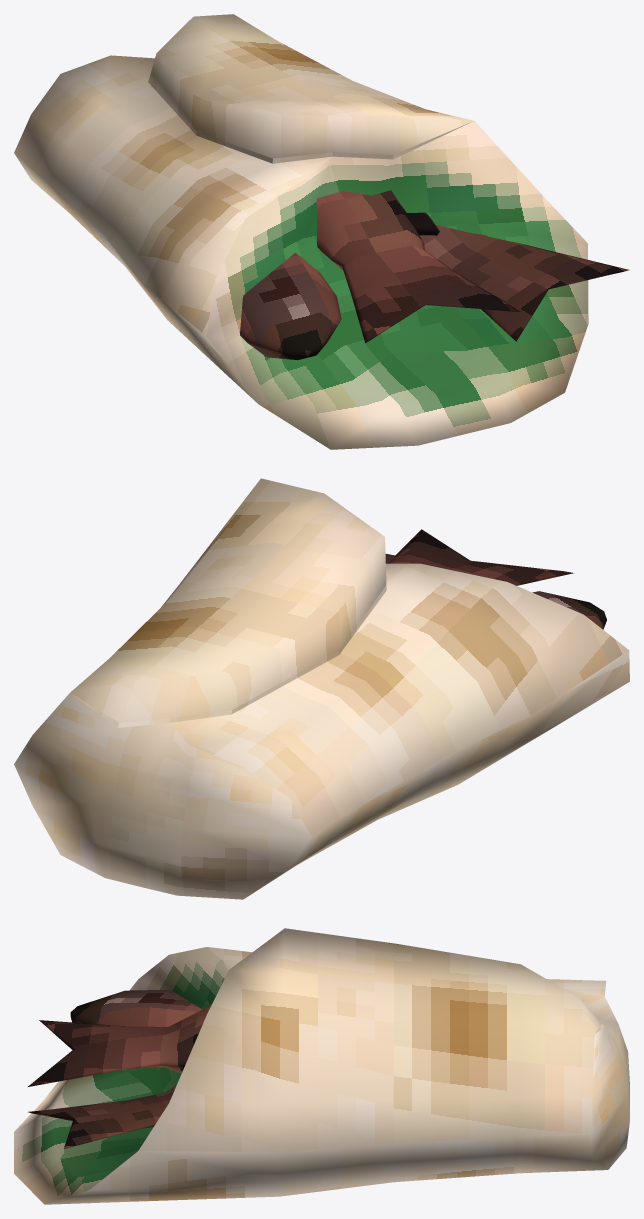
The model's file is FishWraps.fbx.
3 renders of one model, top to bottom at view 1: azimuth 30°, elevation 25°; view 2: azimuth 150°, elevation 25°; view 3: azimuth 270°, elevation 25°, orthographic. The views are drawn at different scales.
Parts seen in each view (by area): view 1: attach; view 2: attach; view 3: attach.
Part boxes in pixels (left/top/right/bottom): attach: left=14, top=14, right=628, bottom=449; attach: left=14, top=478, right=629, bottom=899; attach: left=14, top=928, right=629, bottom=1204.
Bounding box in the file's own units: 0.3786 × 0.2104 × 0.5712.
Materials: 1 (1 with a texture image).
